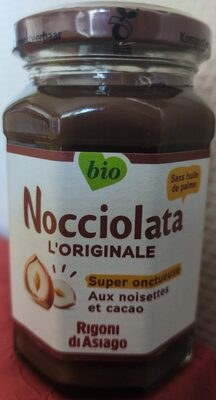Nocciolata: (11, 20, 205, 380)
